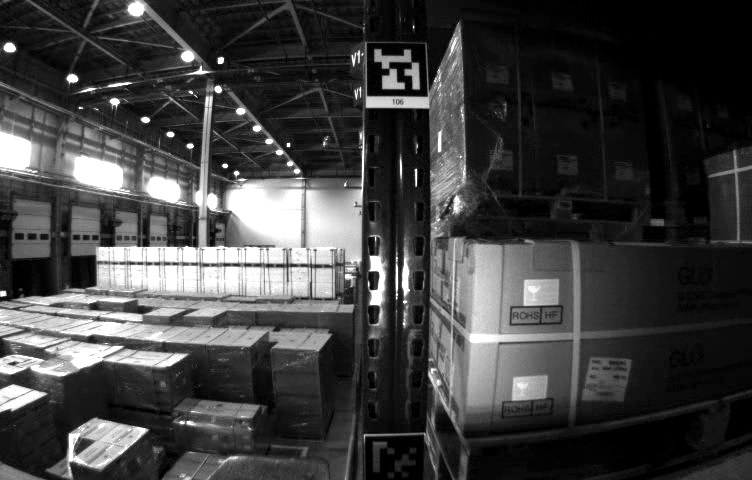True Barcode: (581, 354, 631, 400)
